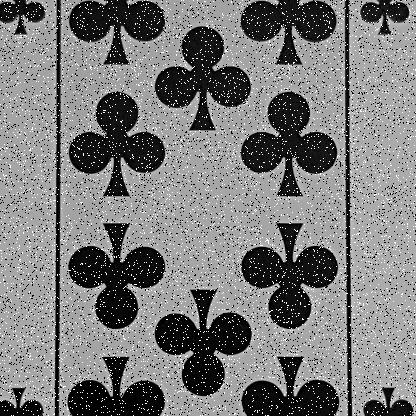10c: (341, 0, 415, 63), (0, 0, 62, 45)
